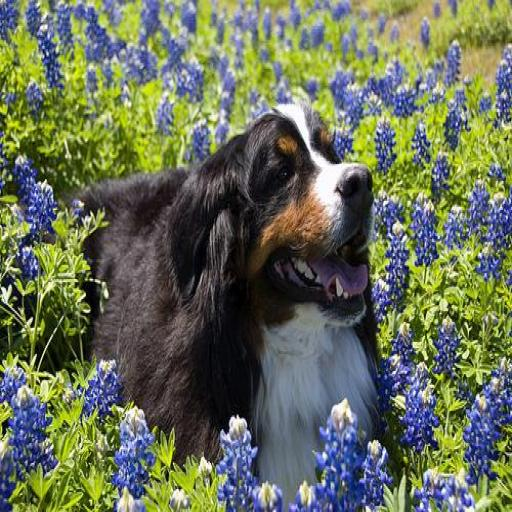dog_face: (208, 111, 386, 340)
